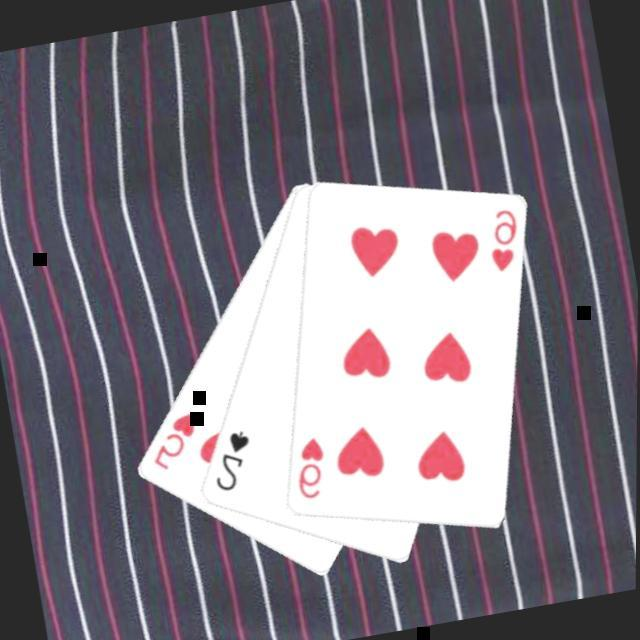2S: (202, 424, 259, 496)
5H: (140, 408, 203, 473)
6H: (476, 202, 525, 276), (285, 432, 332, 503)
